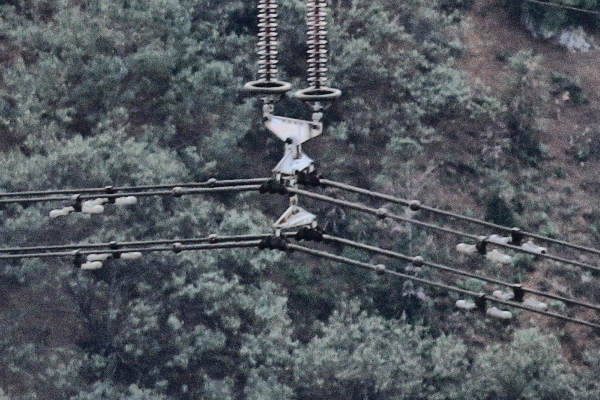damper: (453, 233, 513, 266), (487, 224, 548, 256), (453, 290, 513, 321), (490, 282, 549, 311), (45, 193, 105, 221), (84, 183, 140, 208), (86, 240, 144, 262)
damper_defect: (67, 248, 103, 273)
